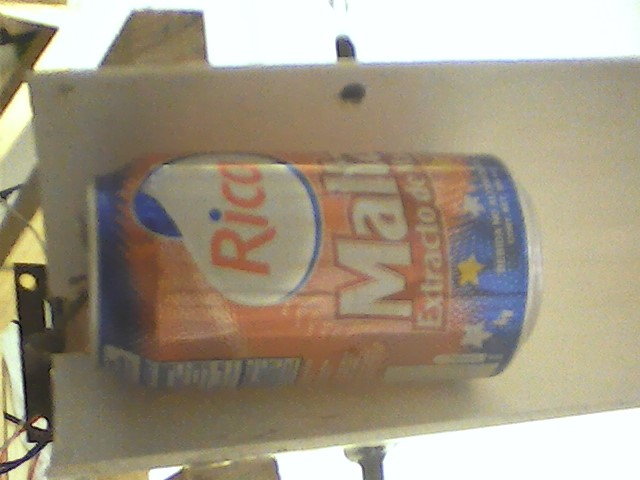lata: (80, 140, 550, 402)
